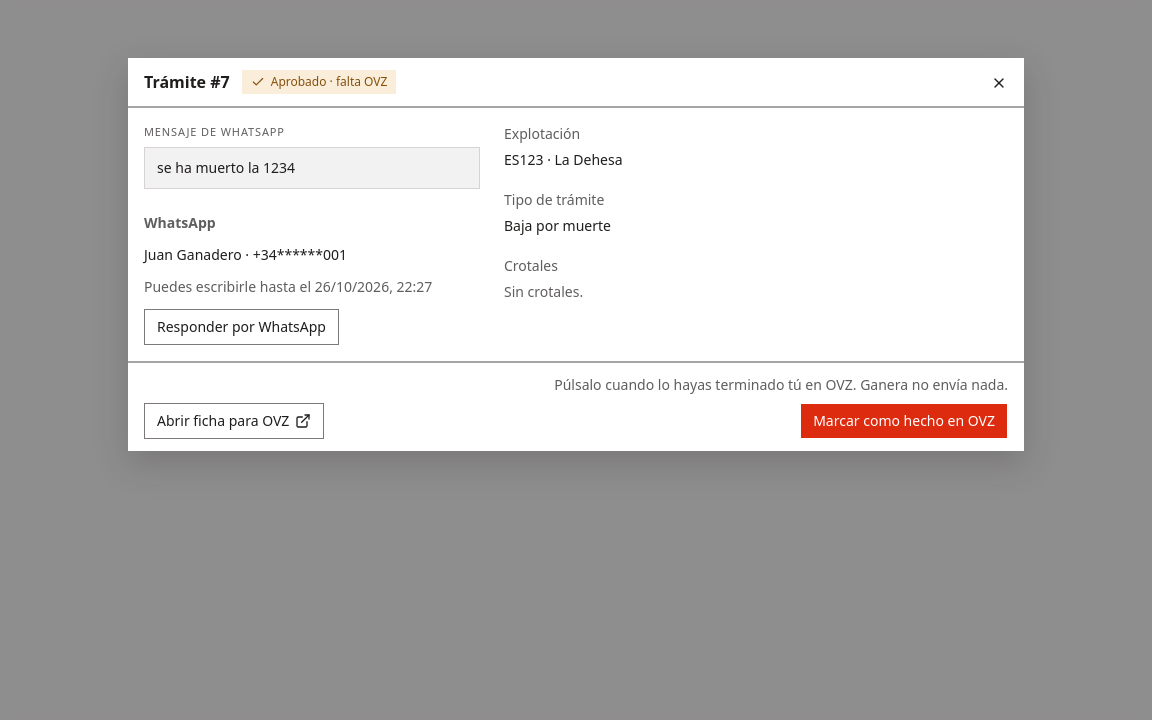
Test: Sección WhatsApp: el panel › APROBADO: sin hueco, el cursor al final y Enviar ya activo
Expected: the heading "Mensaje de WhatsApp" is shown, x1=144 y1=124 x2=285 y2=139
Click the button "Responder por WhatsApp" at (241, 327), box x1=144 y1=309 x2=339 y2=345
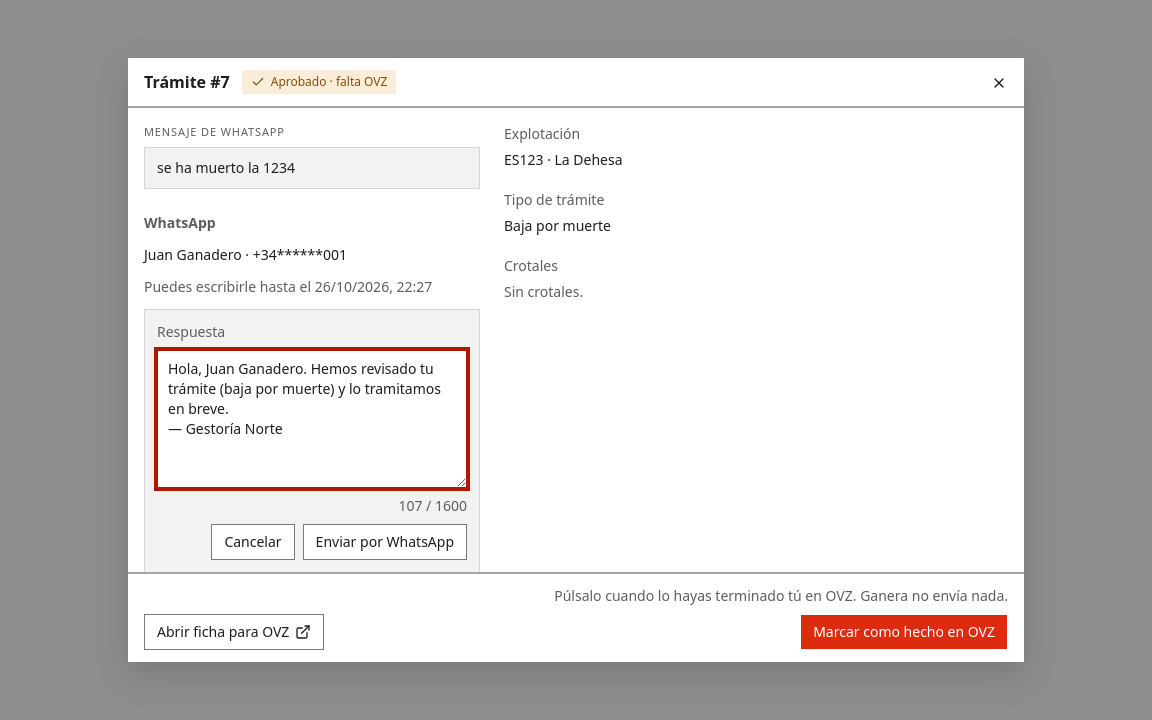
Now the button "Enviar por WhatsApp" is enabled, box x1=303 y1=524 x2=467 y2=560
